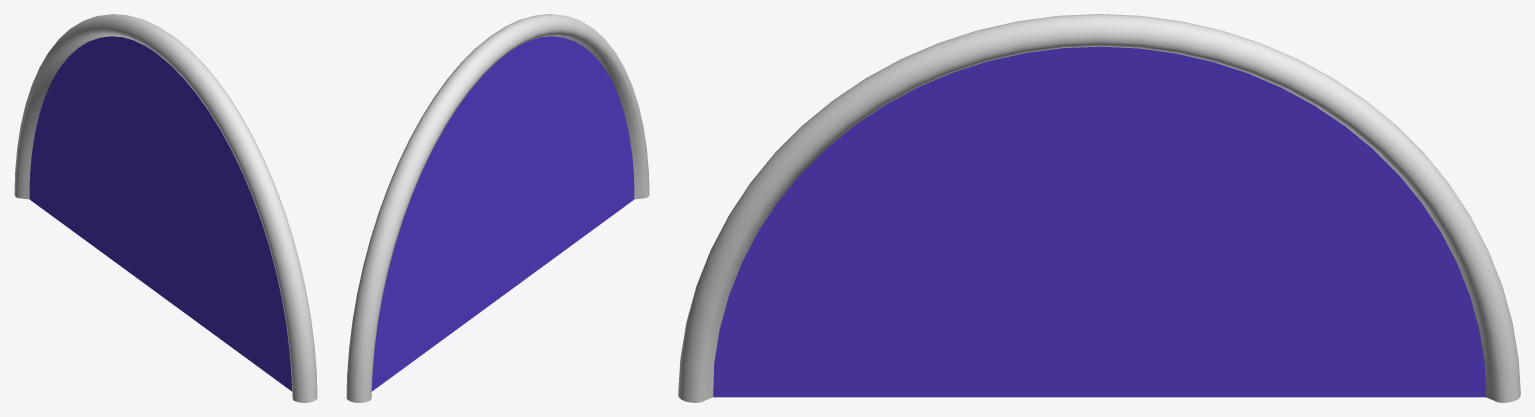
Rendered from Dish.fbx.
3 renders of one model, left to right at view 1: azimuth 30°, elevation 25°; view 2: azimuth 150°, elevation 25°; view 3: azimuth 270°, elevation 25°, orthographic. The views are drawn at different scales.
Visible parts, largest first — view 1: Cylinder; view 2: Cylinder; view 3: Cylinder.
Boxes of the visible parts, bbox=[...] form: Cylinder: bbox=[14, 14, 317, 402]; Cylinder: bbox=[346, 14, 649, 402]; Cylinder: bbox=[678, 14, 1520, 402].
Bounding box in the file's own units: 46.7 × 515 × 1038.
